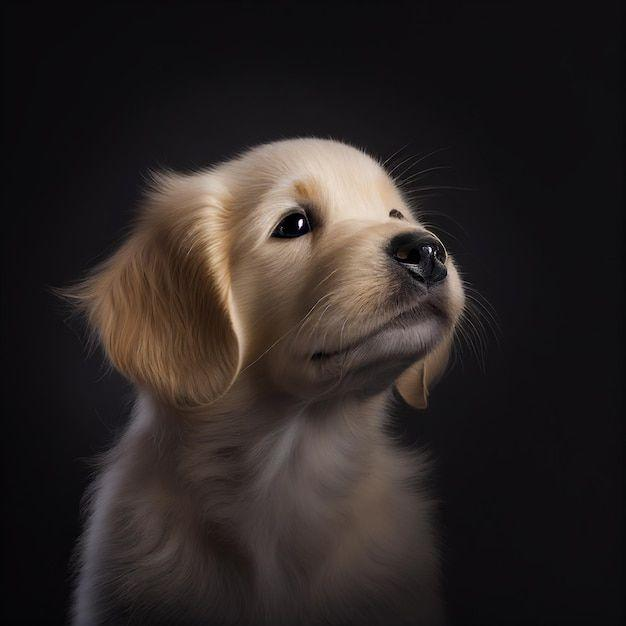puppy-dog: (62, 135, 470, 626)
